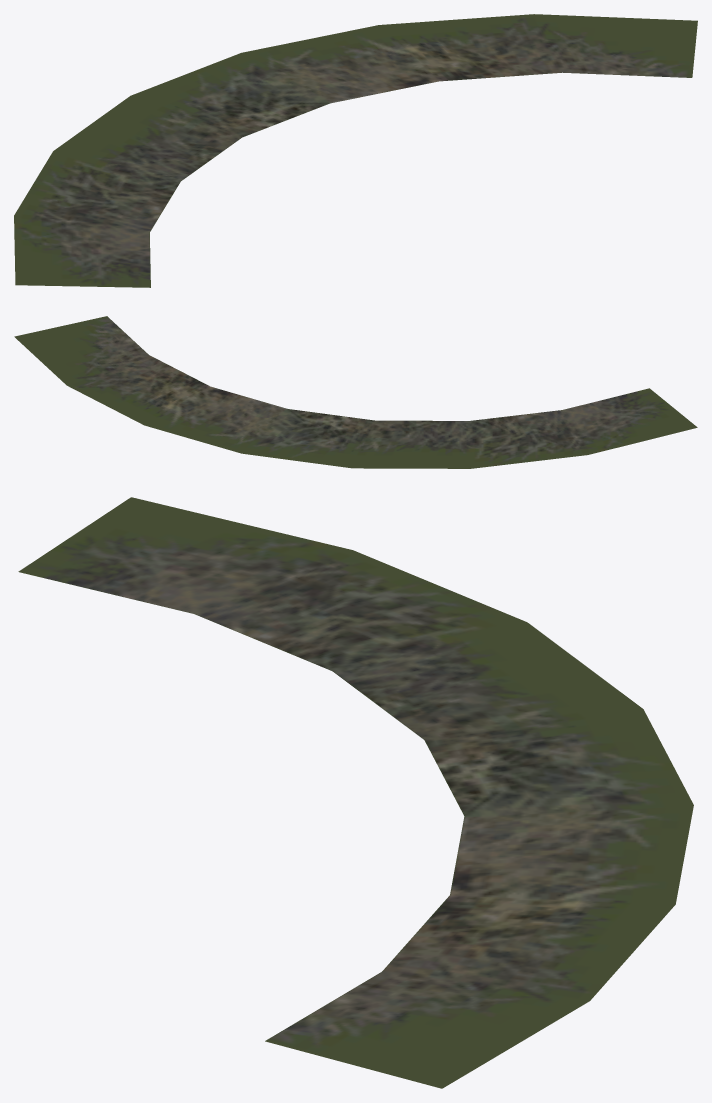
File: Common_OBJ_WaterBush_02.fbx
3 renders of one model, top to bottom at view 1: azimuth 30°, elevation 25°; view 2: azimuth 150°, elevation 25°; view 3: azimuth 270°, elevation 25°, orthographic. The views are drawn at different scales.
Visible parts, largest first — view 1: Common_OBJ_WaterBush_02; view 2: Common_OBJ_WaterBush_02; view 3: Common_OBJ_WaterBush_02.
Part boxes in pixels (box(x1,y1,x2,y2)): Common_OBJ_WaterBush_02: box(14, 14, 697, 287); Common_OBJ_WaterBush_02: box(14, 316, 697, 468); Common_OBJ_WaterBush_02: box(18, 497, 693, 1088).
Bounding box in the file's own units: 372 × 4.56e-06 × 179.
Materials: 1 (1 with a texture image).
